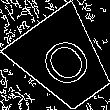O_SE: (30, 28, 97, 94)
